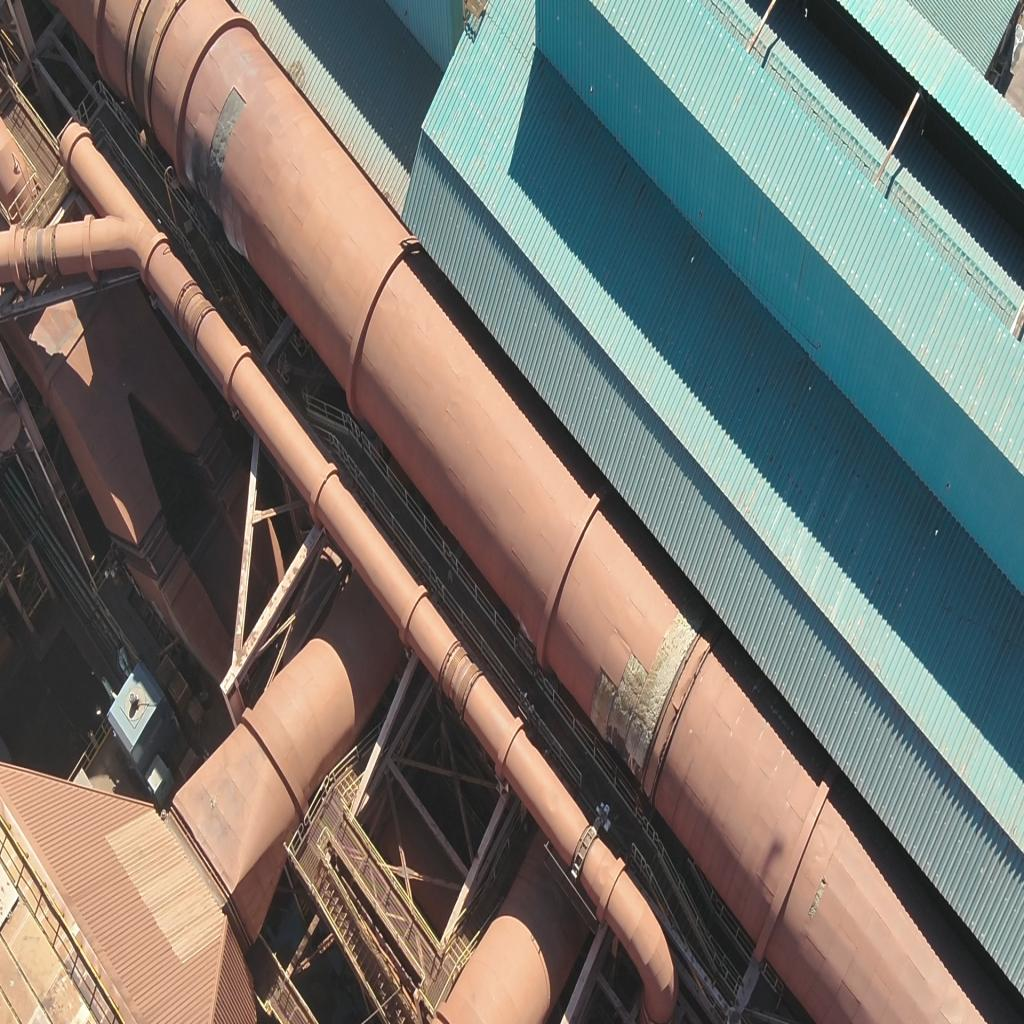Failures: (627, 605, 699, 768), (210, 88, 246, 225), (614, 653, 648, 754), (589, 665, 616, 734)
